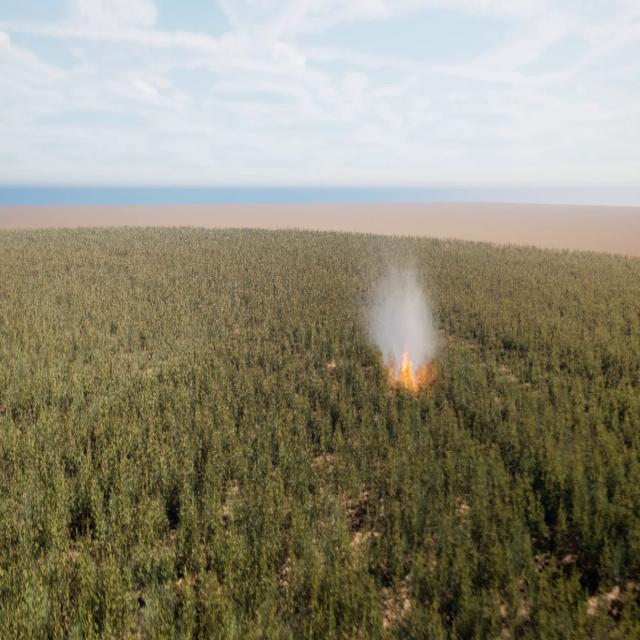fire: (398, 347, 426, 388)
smoke: (365, 251, 437, 390)
